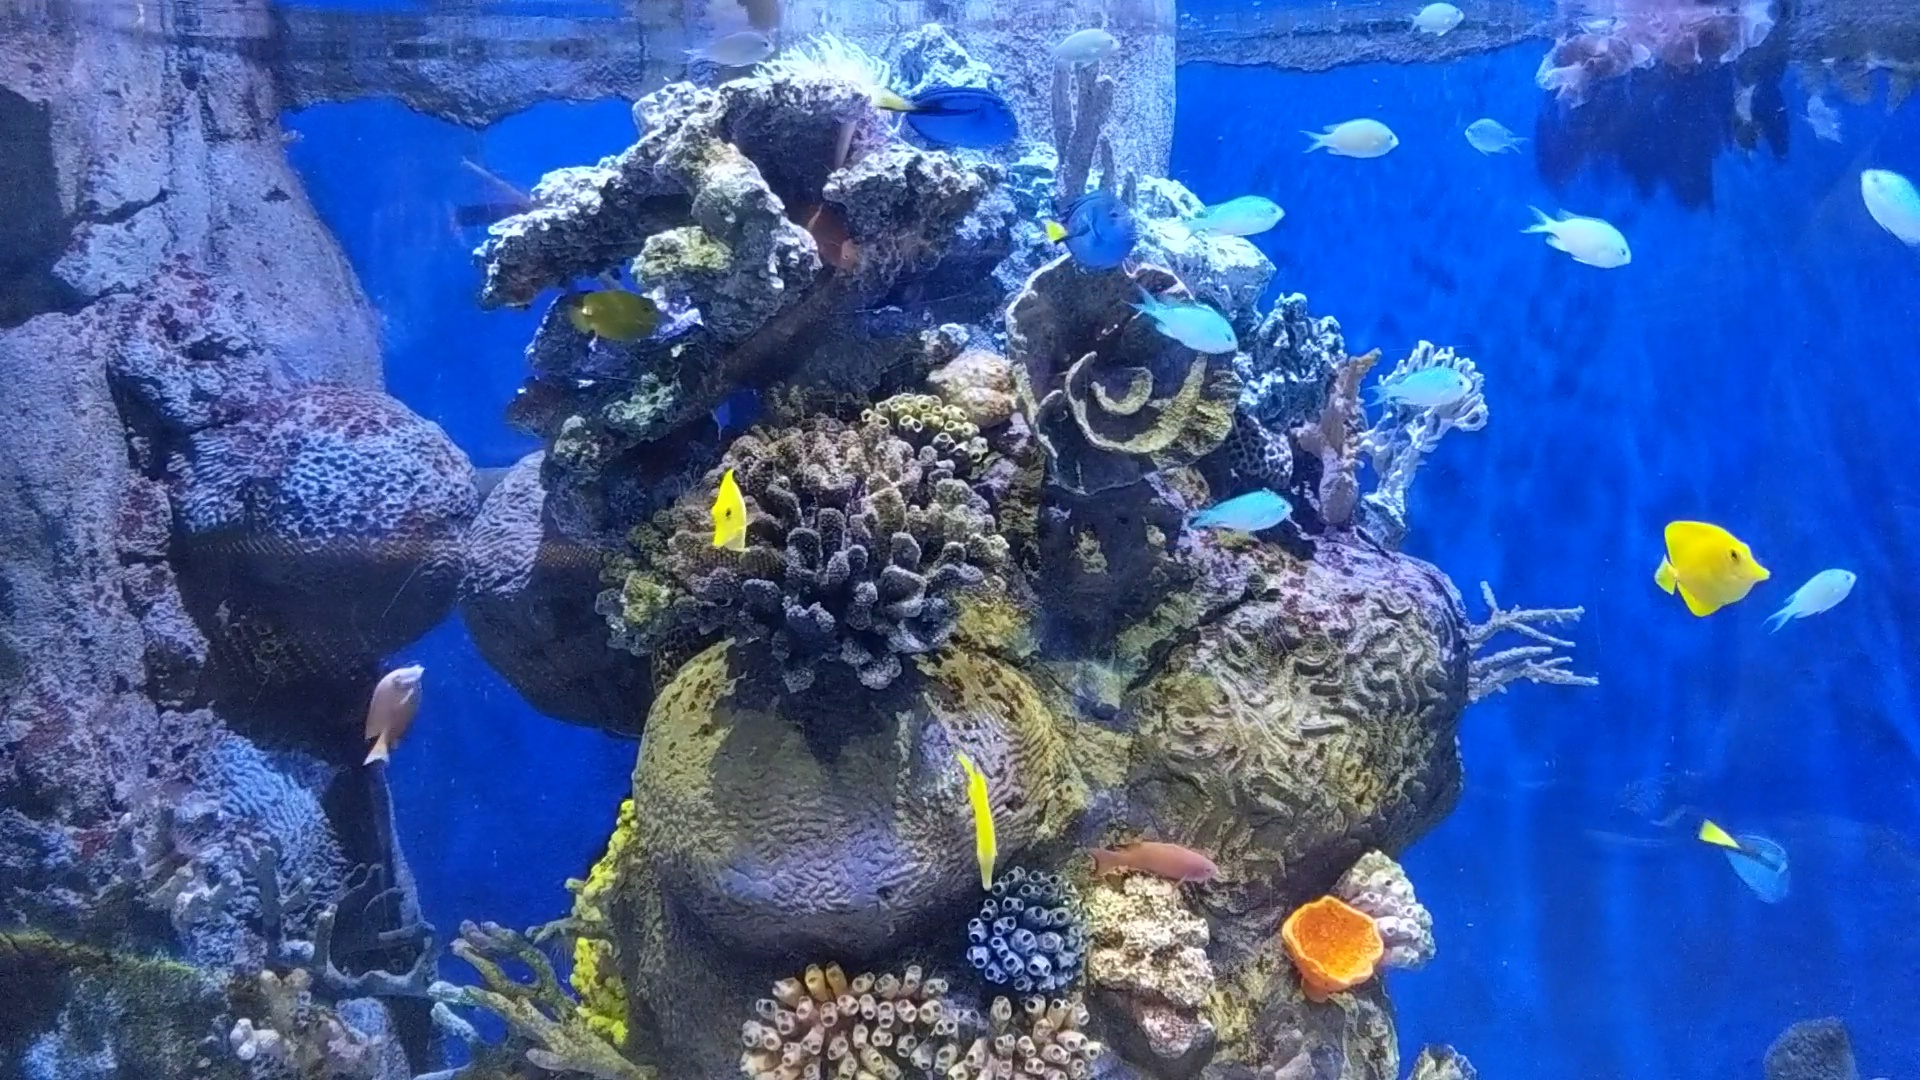blue tang surgeonfish: (864, 82, 1030, 150), (1693, 810, 1793, 916), (1030, 186, 1139, 269)
damselfish: (1522, 200, 1644, 278), (1124, 284, 1238, 363), (1851, 144, 1920, 251), (1772, 563, 1857, 647), (1294, 113, 1410, 167), (1178, 191, 1291, 243), (1031, 25, 1129, 75), (1187, 495, 1295, 538), (682, 25, 781, 71), (1361, 365, 1472, 405), (1466, 109, 1528, 164), (1400, 0, 1468, 36)
saddle butterfly fish: (1655, 509, 1772, 622), (559, 284, 687, 348), (963, 742, 1007, 895), (705, 446, 762, 563)
